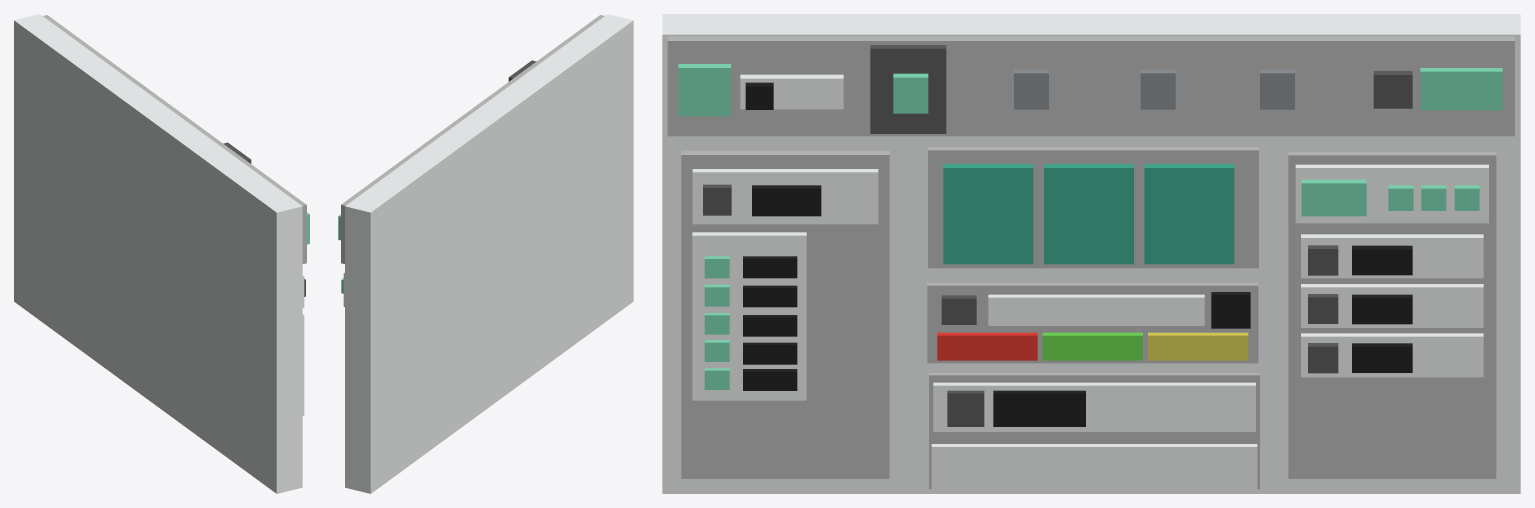
The picture shows the model from 3 angles, left to right: view 1: azimuth 30°, elevation 25°; view 2: azimuth 150°, elevation 25°; view 3: azimuth 270°, elevation 25°; orthographic projection. The views are drawn at different scales.
Visible parts, largest first — view 1: Cube; view 2: Cube; view 3: Cube.
Part boxes in pixels (x1=…): Cube: x1=14, y1=14, x2=309, y2=493; Cube: x1=338, y1=14, x2=633, y2=493; Cube: x1=662, y1=14, x2=1520, y2=493.
Bounding box in the file's own units: 0.6532 × 4.06 × 6.88.
